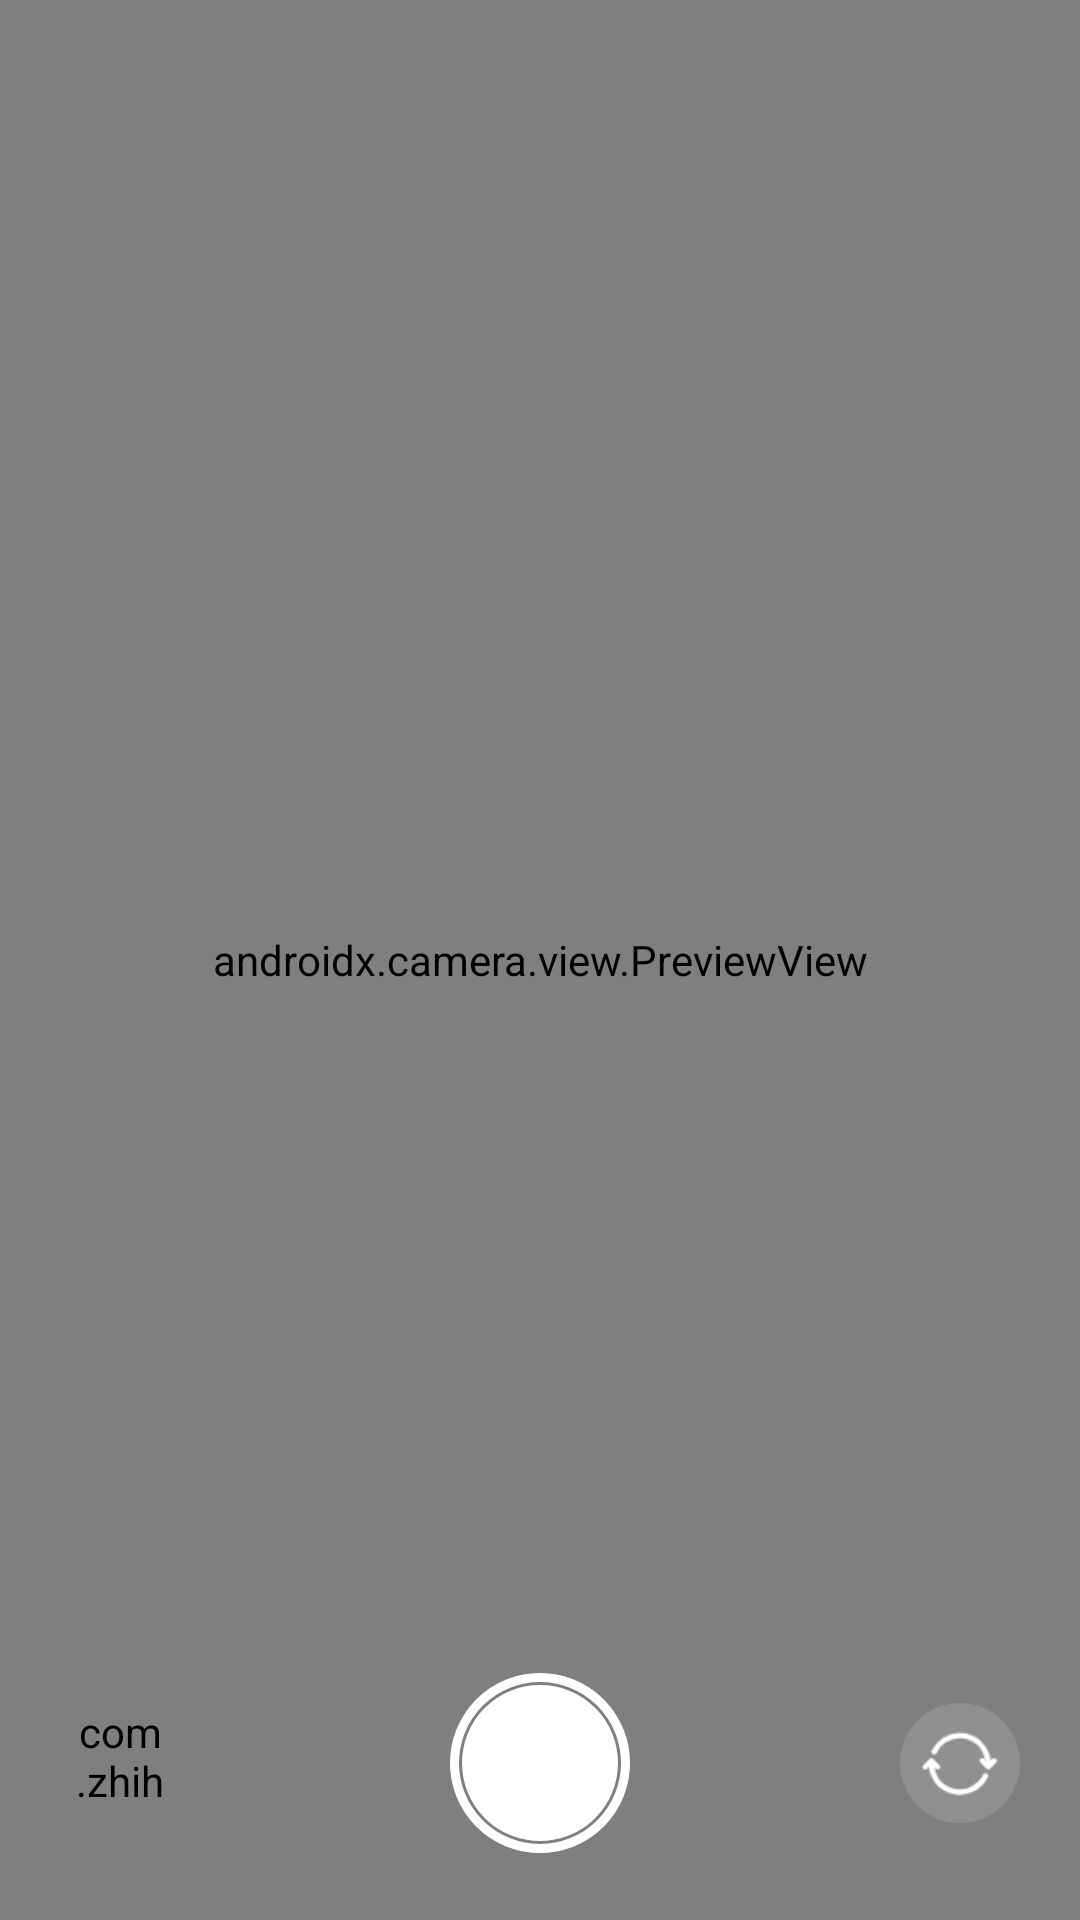

Icons on this 1080px x 1920px Android screen, each with its box as (x1, y1, x2, y2):
change camera: (922, 1732, 998, 1796)
